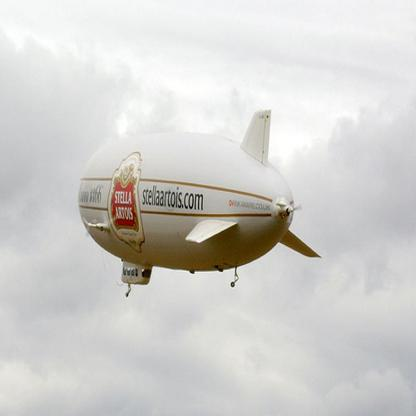Airship: (73, 107, 330, 308)
